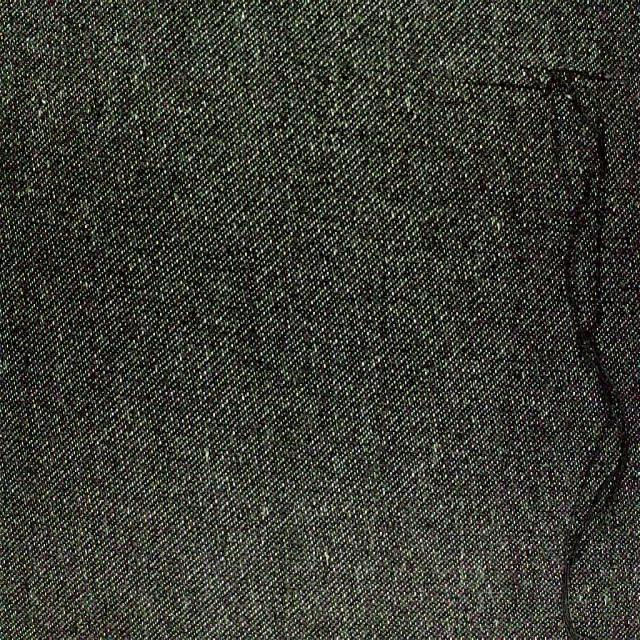defect: (524, 59, 639, 640)
